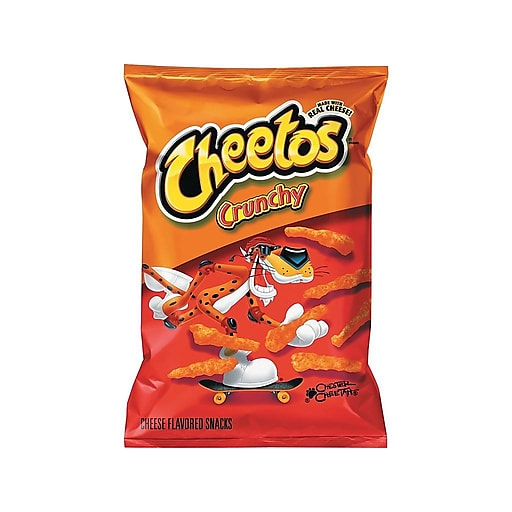cheetos: (119, 62, 388, 451)
